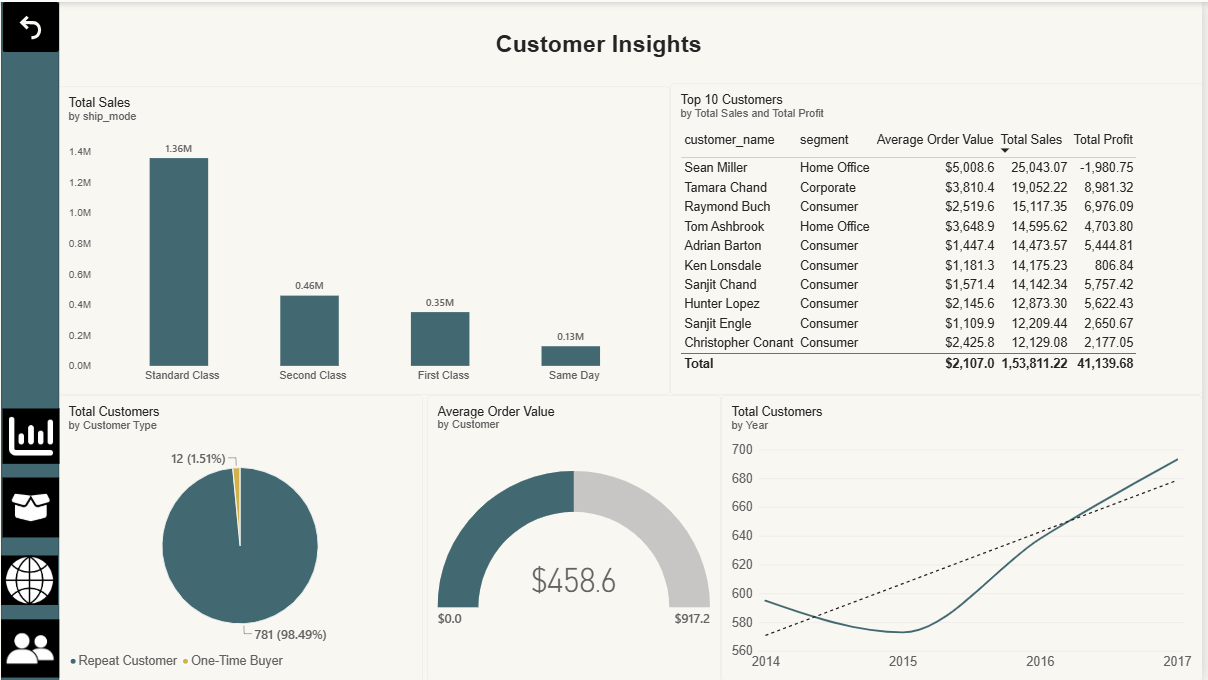

The page's visual inventory and layout, read from the dashboard file:
{"tool":"powerbi","page":{"name":"Customer Behavior","canvas":[1920,1080],"ordinal":4},"visuals":[{"type":"textbox","box":[0,45.3,1920.7,83.5],"z":0},{"type":"gauge","fields":{"Y":["_Measures.Average Order Value"]},"box":[687.1,625.1,467.6,455.7],"z":1000},{"type":"pieChart","fields":{"Category":["dim_Customers.Customer Type"],"Y":["_Measures.Total Customers"]},"box":[100.2,625.1,579.8,458.1],"z":2000},{"type":"tableEx","title":"Top 10 Customers","fields":{"Values":["dim_Customers.customer_name","dim_Customers.segment","_Measures.Average Order Value","_Measures.Total Sales","_Measures.Total Profit"]},"box":[1073.7,128.8,847,496.3],"z":3000},{"type":"clusteredColumnChart","fields":{"Category":["fact_orders.ship_mode"],"Y":["_Measures.Total Sales"]},"box":[100.2,133.6,973.5,491.5],"z":4000},{"type":"lineChart","fields":{"Category":["Calendar.Year"],"Y":["_Measures.Total Customers"]},"box":[1154.8,625.1,765.9,455.7],"z":5000},{"type":"shape","box":[10,0,92.5,1080],"z":7000},{"type":"image","box":[10,975,92.5,105],"z":8000},{"type":"image","box":[11.9,646.6,90.7,88.3],"z":9000},{"type":"image","box":[9.5,880.4,90.7,78.7],"z":10000},{"type":"image","box":[12.5,757.5,90,95],"z":11000},{"type":"actionButton","box":[12.5,0,90,80],"z":12000}]}

Visuals, with their boxes on the page's 1920x1080 design canvas (x1, y1, x2, y2). These are canvas units, not pixel positions in the 1208x680 screenshot, which may show the page scaled, cropped or inside an application window:
textbox: detection(0, 45, 1921, 129)
gauge - _Measures.Average Order Value: detection(687, 625, 1155, 1081)
pieChart - dim_Customers.Customer Type x _Measures.Total Customers: detection(100, 625, 680, 1083)
"Top 10 Customers" tableEx: detection(1074, 129, 1921, 625)
clusteredColumnChart - fact_orders.ship_mode x _Measures.Total Sales: detection(100, 134, 1074, 625)
lineChart - Calendar.Year x _Measures.Total Customers: detection(1155, 625, 1921, 1081)
shape: detection(10, 0, 102, 1080)
image: detection(10, 975, 102, 1080)
image: detection(12, 647, 103, 735)
image: detection(10, 880, 100, 959)
image: detection(12, 758, 102, 852)
actionButton: detection(12, 0, 102, 80)
